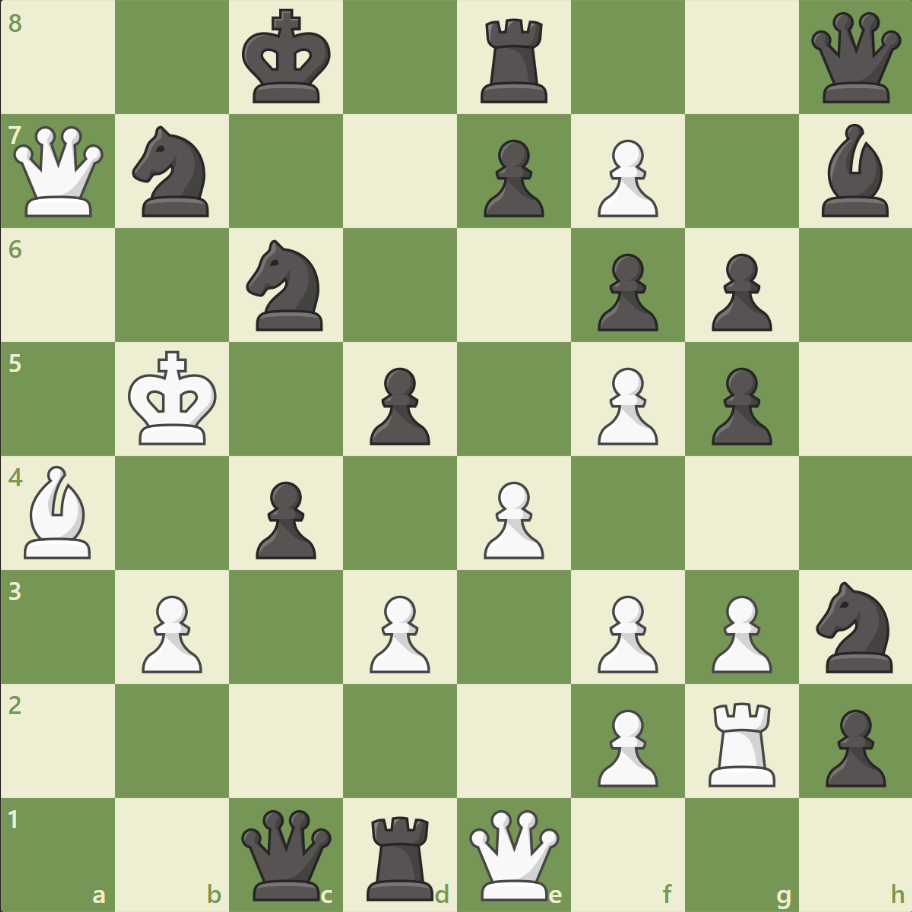B: (17, 460, 101, 563)
K: (124, 344, 224, 452)
P: (474, 473, 549, 564), (133, 586, 208, 677), (701, 586, 776, 677), (588, 132, 662, 223), (588, 359, 662, 450), (361, 586, 435, 677), (588, 586, 662, 677), (588, 700, 662, 791)
Q: (10, 122, 109, 222), (464, 804, 563, 903)
R: (700, 693, 783, 790)
b: (812, 120, 896, 222)
k: (238, 4, 338, 112)
n: (124, 121, 222, 223), (238, 234, 335, 337), (806, 575, 903, 677)
p: (474, 132, 549, 223), (701, 246, 776, 337), (701, 359, 776, 450), (247, 473, 322, 564), (588, 246, 662, 337), (361, 359, 435, 450), (815, 700, 889, 791)
q: (805, 9, 904, 108), (237, 804, 336, 903)
r: (473, 12, 556, 109), (360, 806, 442, 904)
